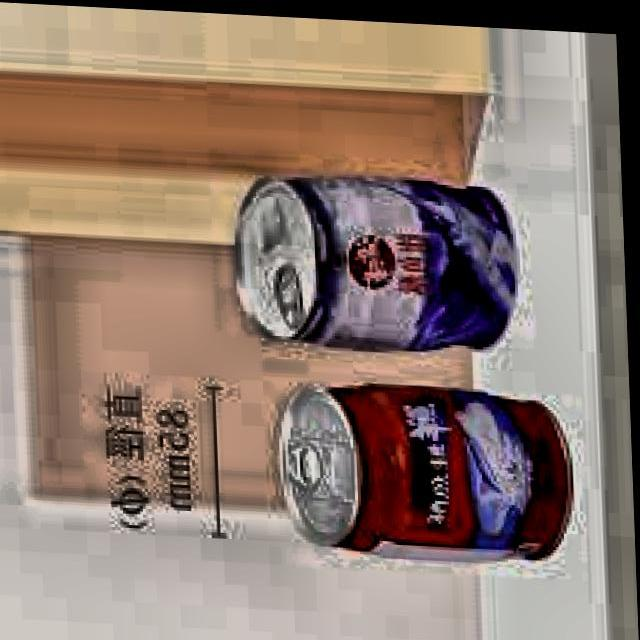litter: (272, 369, 583, 568), (225, 154, 531, 353)
